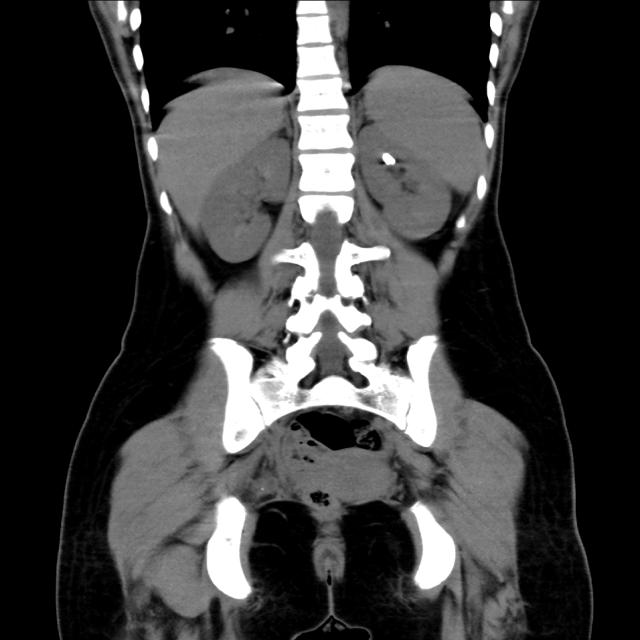kidneystone: (382, 152, 396, 165)
